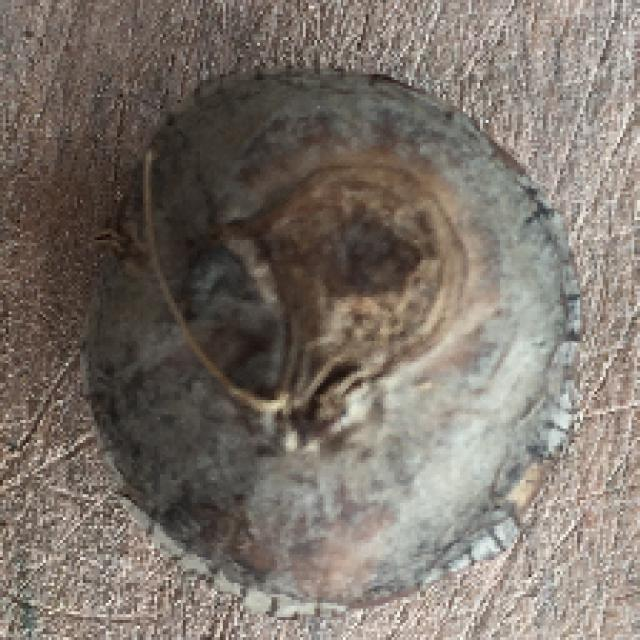DamagedHazelnut: (93, 69, 584, 614)
